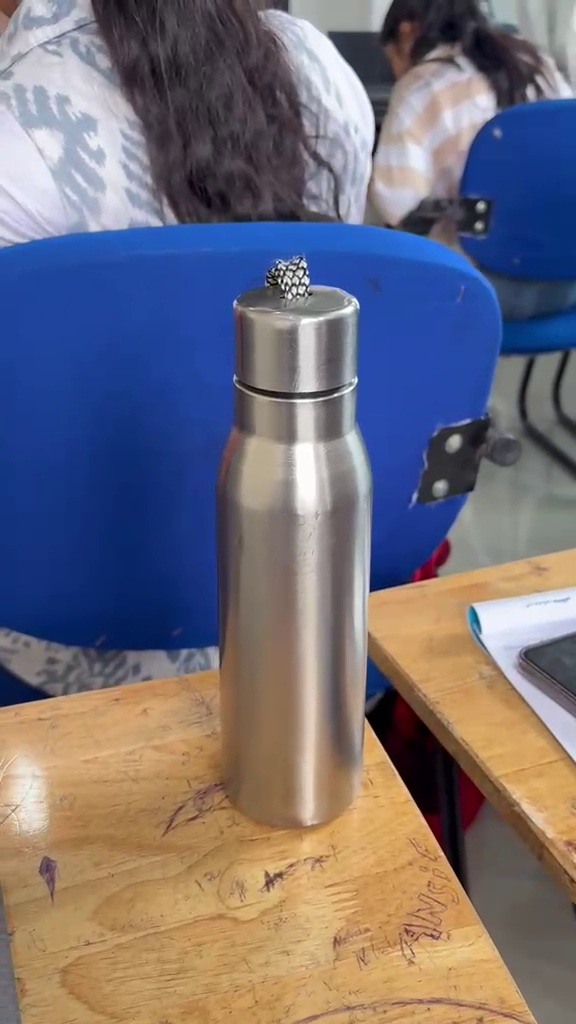Bottle: (224, 246, 365, 832)
